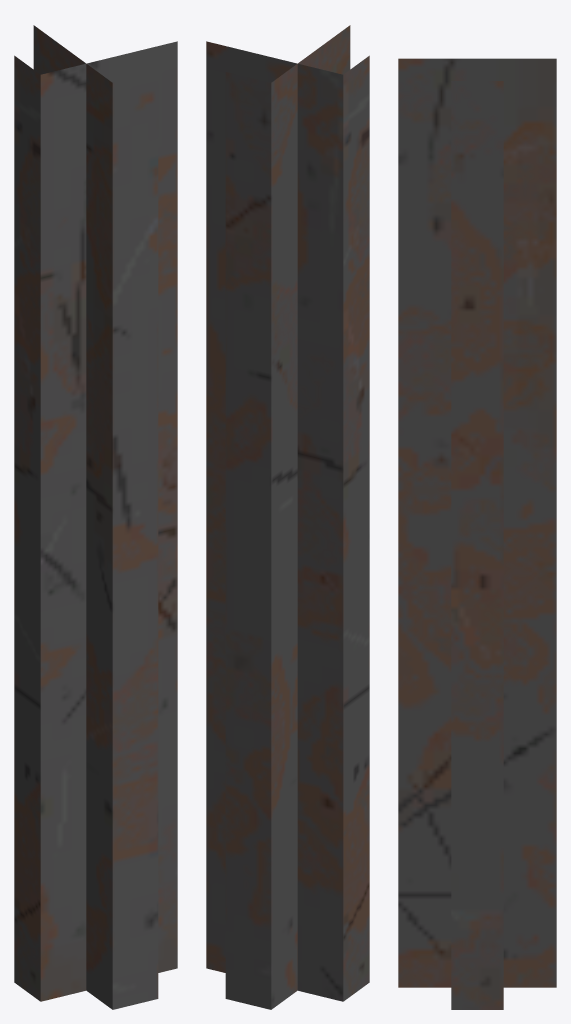
Rendered from conveyorsupport_middle.glb.
3 renders of one model, left to right at view 1: azimuth 30°, elevation 25°; view 2: azimuth 150°, elevation 25°; view 3: azimuth 270°, elevation 25°, orthographic.
Visible parts, largest first — view 1: conveyorsupport_middle; view 2: conveyorsupport_middle; view 3: conveyorsupport_middle.
Boxes of the visible parts, left/top/right/bottom form: conveyorsupport_middle: left=14, top=25, right=177, bottom=1009; conveyorsupport_middle: left=206, top=25, right=369, bottom=1009; conveyorsupport_middle: left=398, top=58, right=556, bottom=1009.
Size of the model in its own units: 0.1545 by 1 by 0.1545.
1 material, 1 textured.
